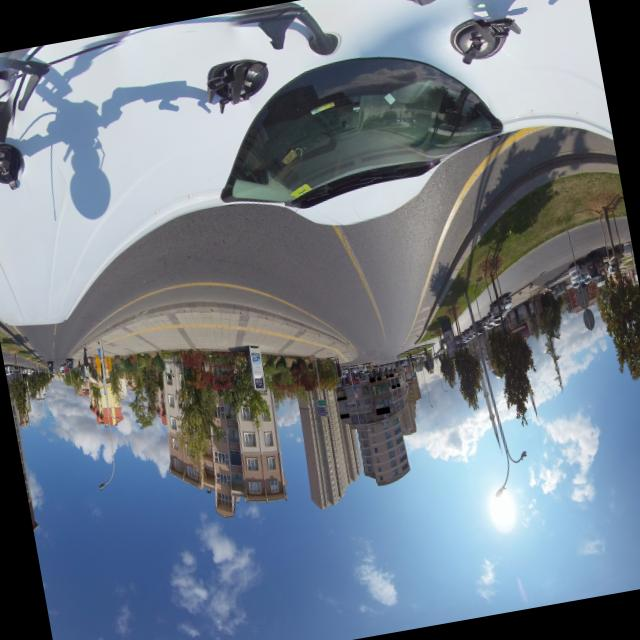SignStore: (375, 405, 389, 414), (335, 396, 345, 399), (368, 376, 374, 381), (338, 413, 348, 416), (390, 384, 394, 388), (388, 372, 392, 376), (375, 376, 380, 379), (395, 382, 398, 386), (384, 374, 387, 377)
